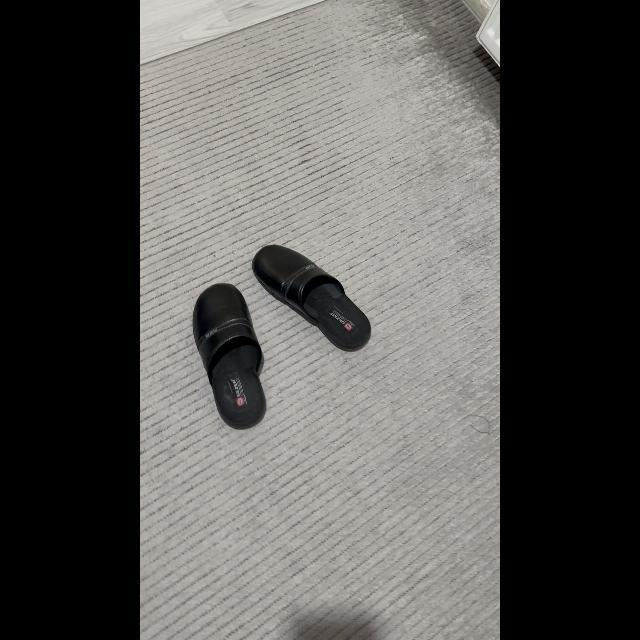slipper: (248, 242, 376, 354), (192, 279, 272, 436)
